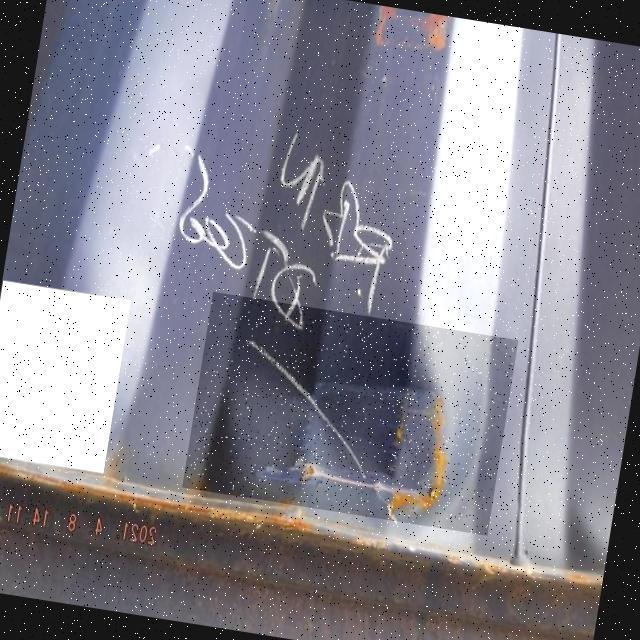Minor-Dent: (182, 292, 518, 536)
